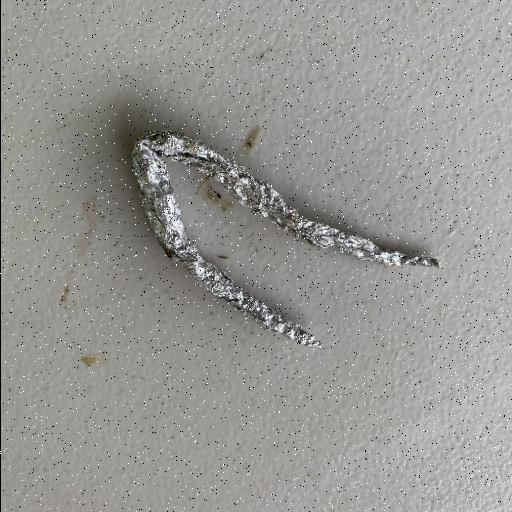Metal: (128, 127, 442, 350)
